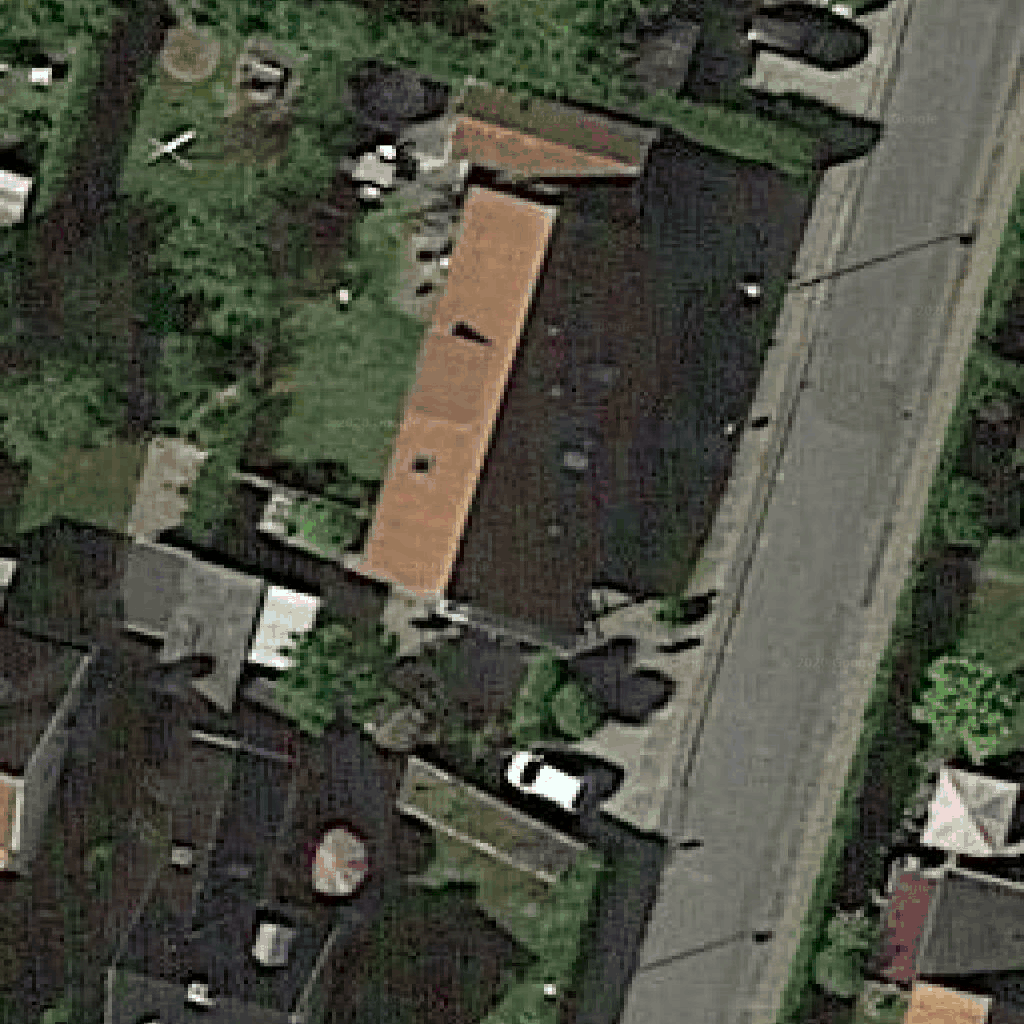car: (745, 3, 861, 75), (506, 745, 595, 816)
